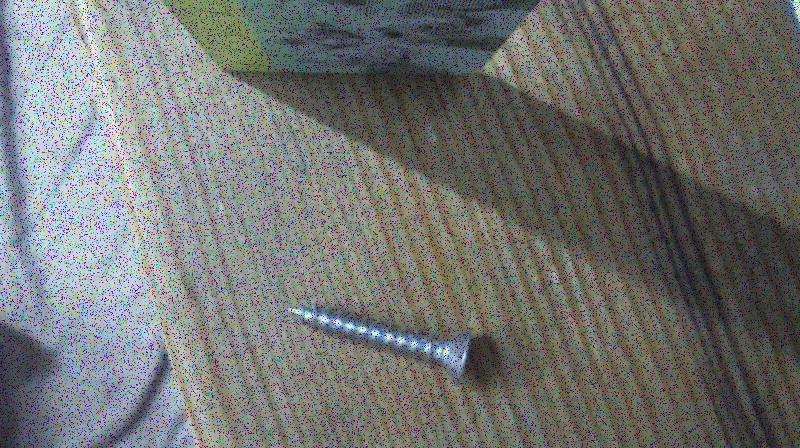S001: (279, 296, 476, 390)
